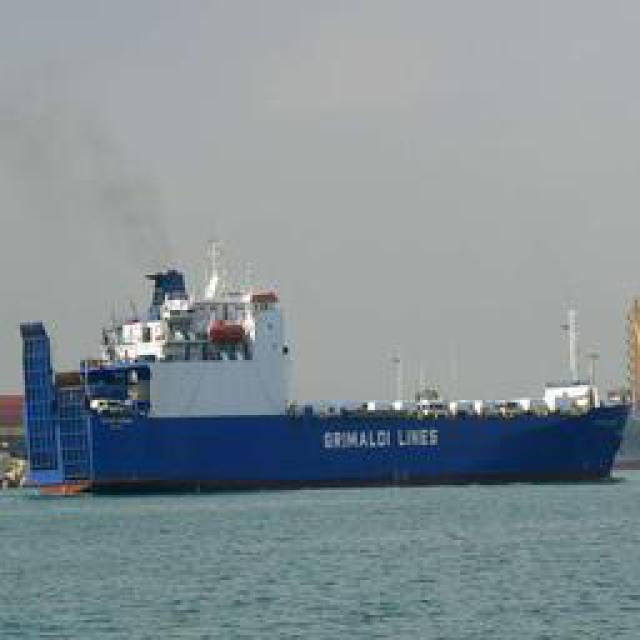Ship: (49, 276, 629, 499)
